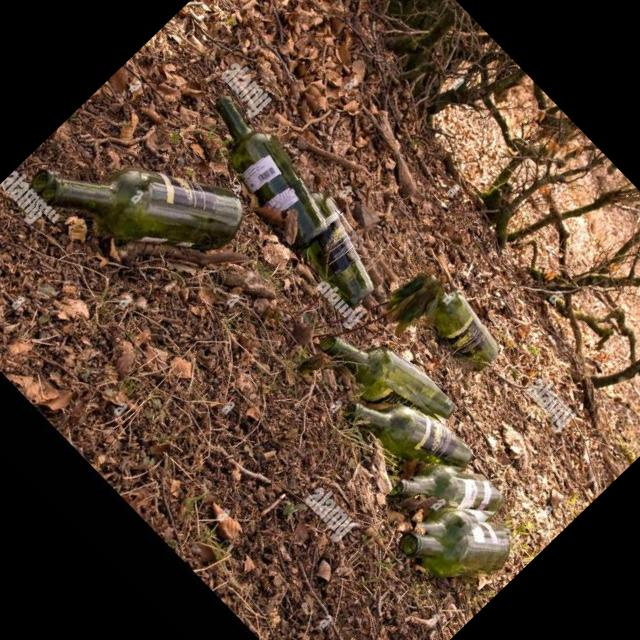Glass: (22, 88, 256, 322), (179, 88, 345, 257), (314, 306, 459, 452), (261, 172, 397, 310), (341, 369, 477, 507), (396, 480, 526, 610), (384, 438, 509, 563), (404, 270, 511, 378)
